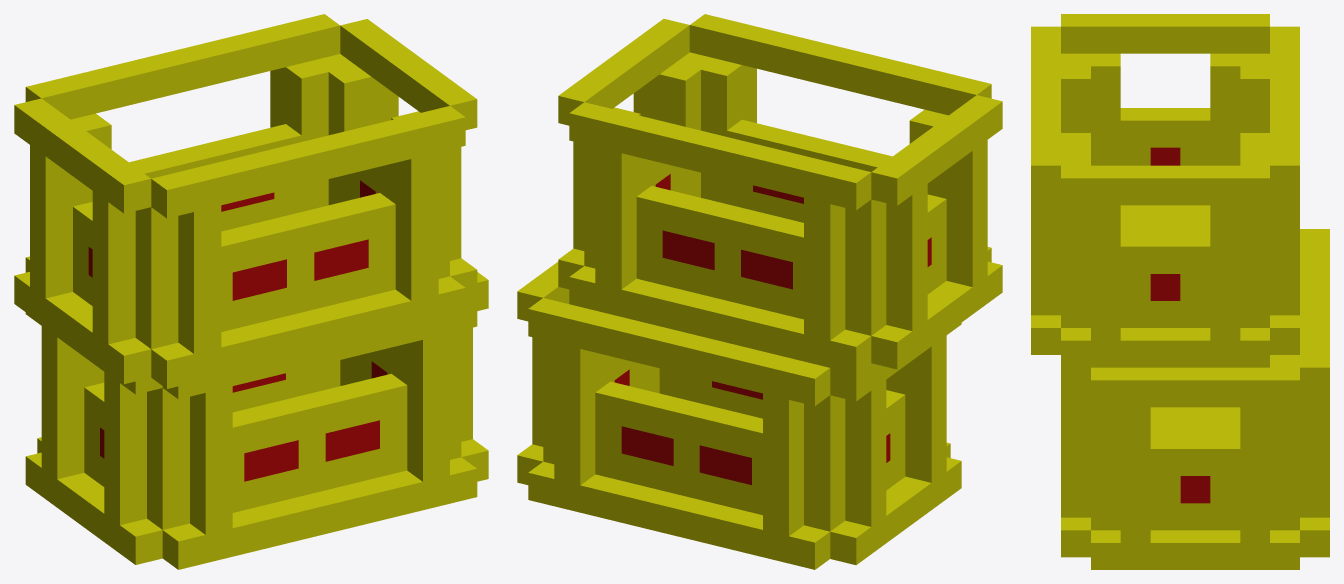
File: crate.glb
The picture shows the model from 3 angles, left to right: view 1: azimuth 30°, elevation 25°; view 2: azimuth 150°, elevation 25°; view 3: azimuth 270°, elevation 25°; orthographic projection. The views are drawn at different scales.
Parts seen in each view (by area): view 1: ObjObject; view 2: ObjObject; view 3: ObjObject.
Boxes of the visible parts, x1=… form: ObjObject: x1=14, y1=14, x2=488, y2=569; ObjObject: x1=517, y1=14, x2=1002, y2=569; ObjObject: x1=1031, y1=14, x2=1329, y2=569.
Bounding box in the file's own units: 1.4 × 1.4 × 1.
1 material, 1 textured.
